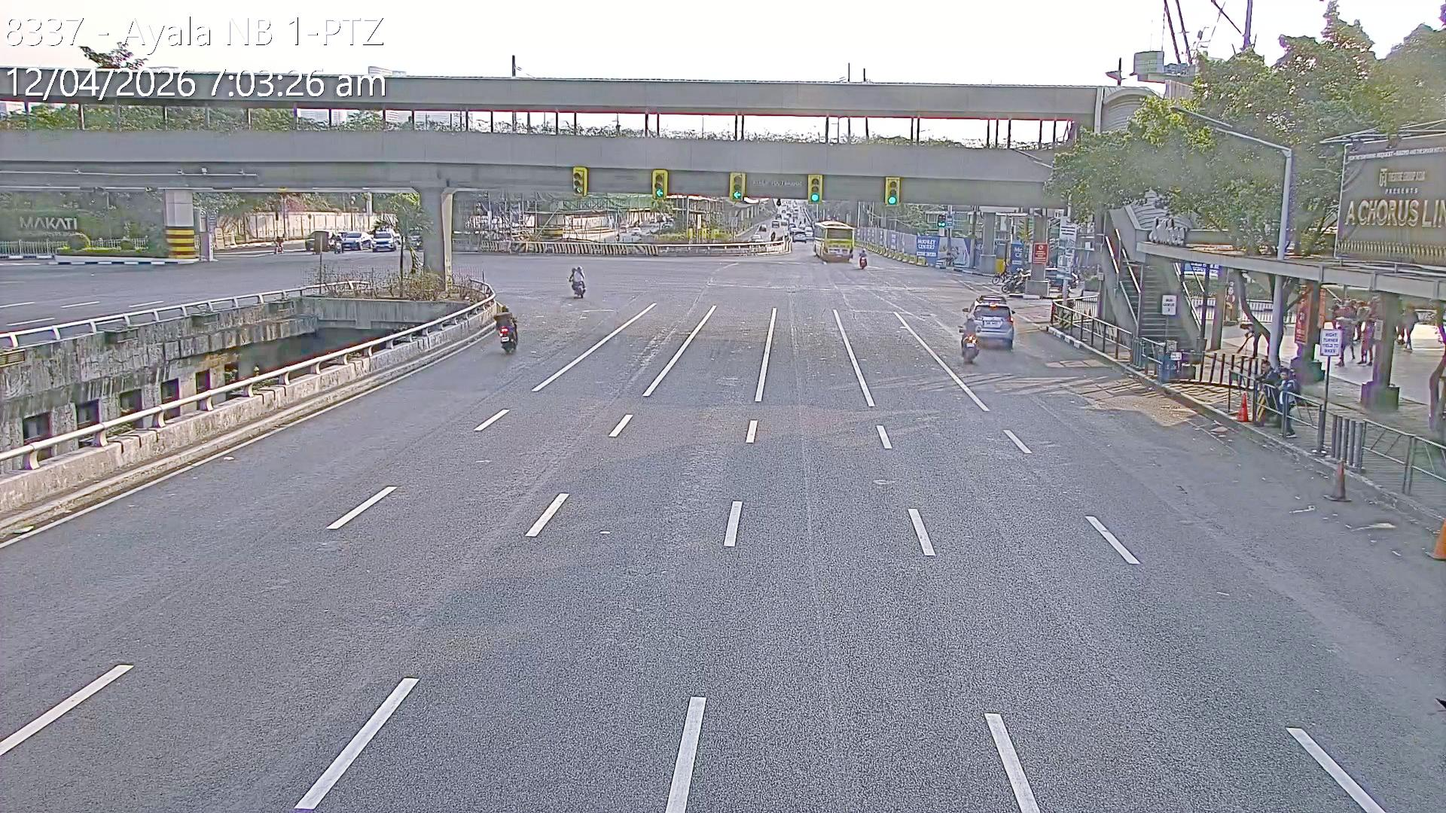Car: (961, 296, 1014, 355), (306, 230, 338, 254), (339, 229, 372, 251), (369, 230, 397, 254)
Motor: (493, 309, 517, 351), (1001, 268, 1028, 295), (959, 330, 980, 364), (566, 266, 585, 297), (856, 250, 872, 271), (271, 236, 283, 253)
Not Accident: (958, 290, 1016, 364)
